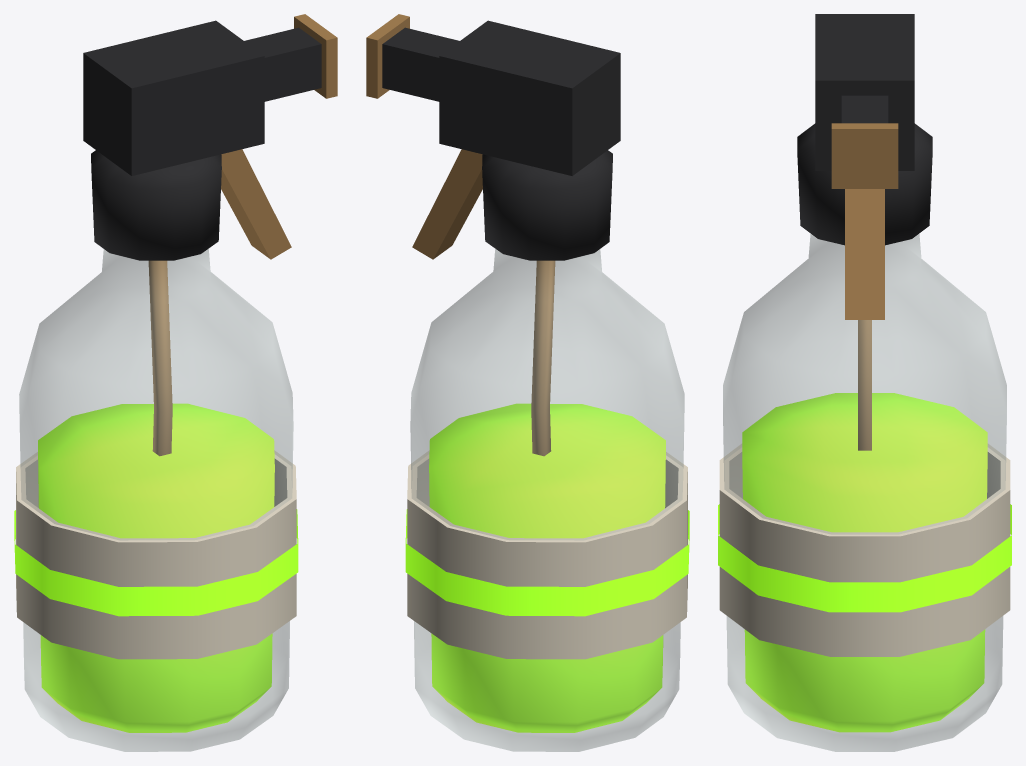
The model's file is Insecticida.glb.
3 views of the same model, side by side, from view 1: azimuth 30°, elevation 25°; view 2: azimuth 150°, elevation 25°; view 3: azimuth 270°, elevation 25° (orthographic). The views are drawn at different scales.
Parts seen in each view (by area): view 1: Insecticida; view 2: Insecticida; view 3: Insecticida.
Part boxes in pixels (x1,y1,x2,y2): Insecticida: (14,14,337,751); Insecticida: (366,14,689,751); Insecticida: (718,14,1011,751).
Bounding box in the file's own units: 0.2684 × 0.572 × 0.2299.
